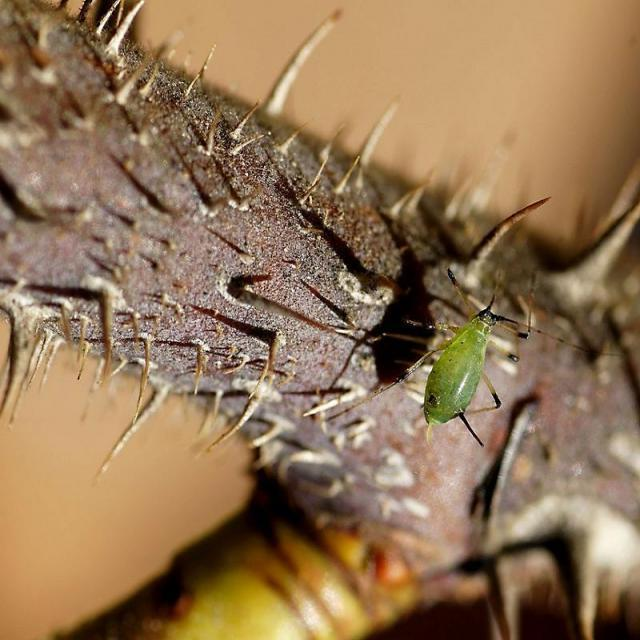aphid: (406, 276, 514, 462)
